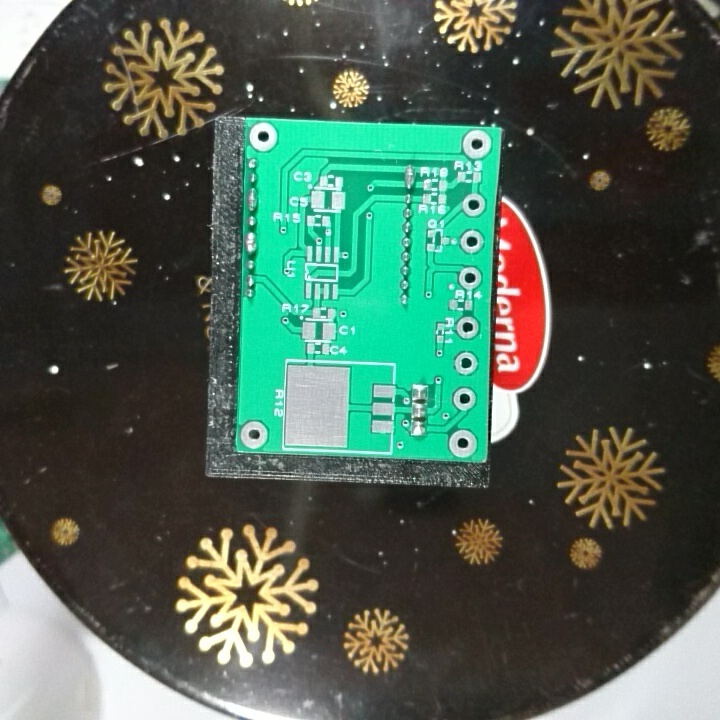F: (247, 120, 282, 156), (460, 128, 494, 163), (237, 418, 271, 451), (447, 428, 479, 458), (460, 190, 488, 220), (457, 227, 485, 256), (454, 315, 482, 343), (452, 349, 479, 378), (457, 264, 484, 293), (450, 386, 478, 412)
P: (243, 184, 260, 217), (401, 161, 417, 191), (243, 230, 259, 255)
